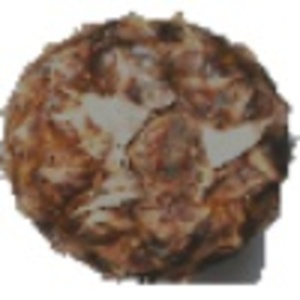abacaxi: (8, 11, 285, 281)
